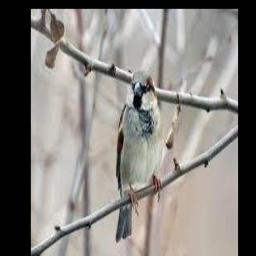Sparrow: (115, 70, 162, 242)
